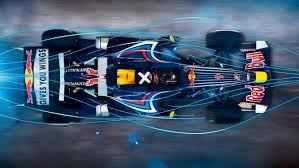FormulaOneCar: (20, 26, 277, 129)
